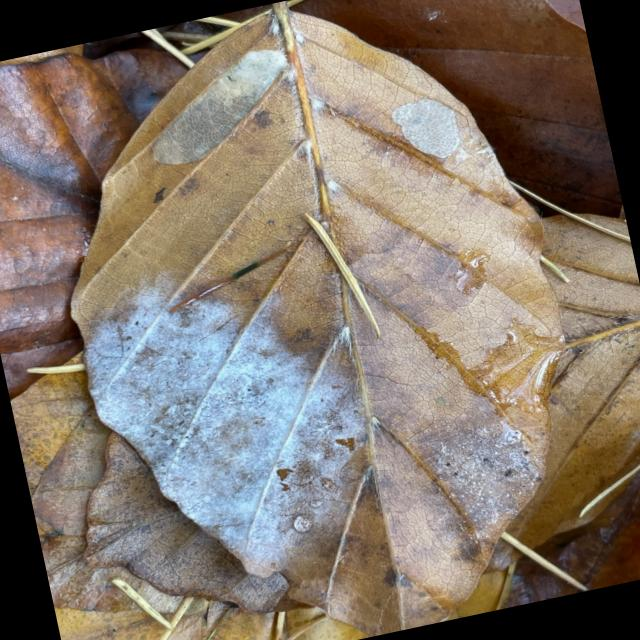powdery_mildew: (71, 0, 564, 634)
